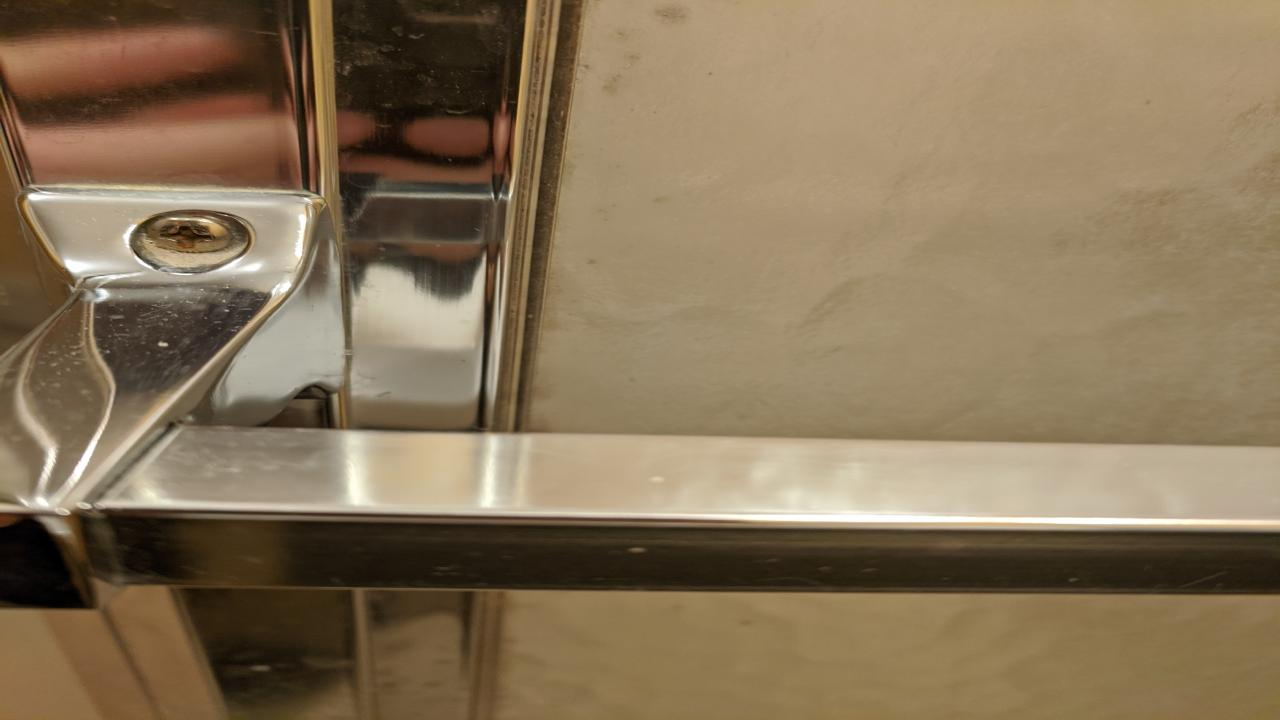CRS: (148, 214, 241, 255)
